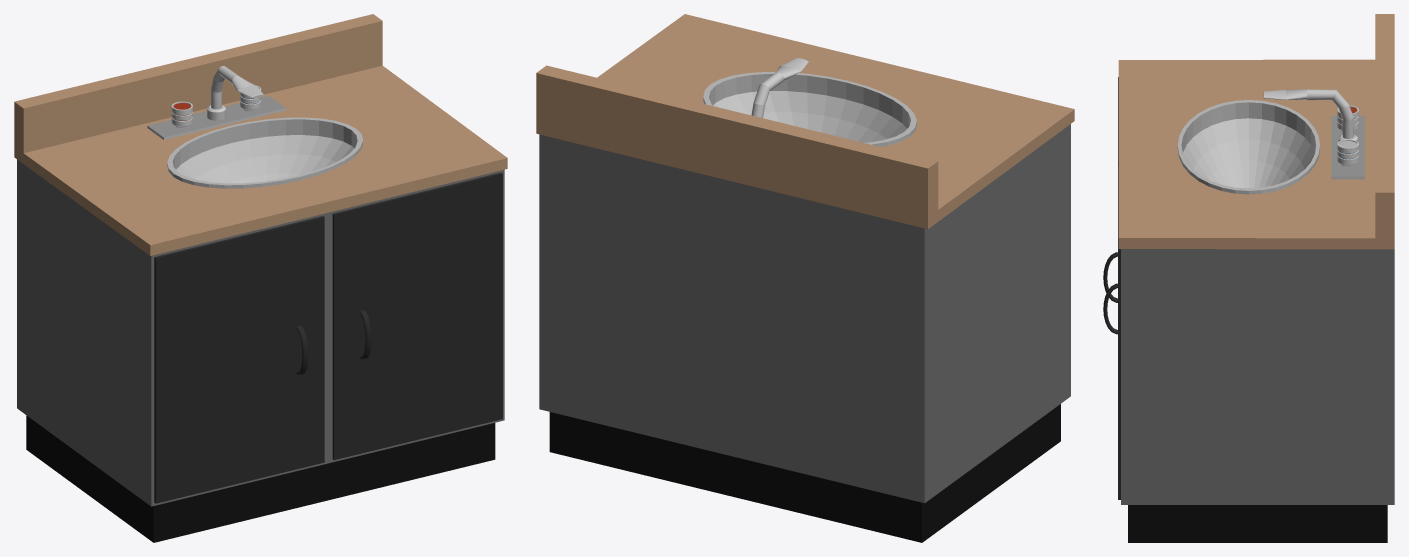
Rendered from Single Sink #2.fbx.
3 renders of one model, left to right at view 1: azimuth 30°, elevation 25°; view 2: azimuth 150°, elevation 25°; view 3: azimuth 270°, elevation 25°, orthographic. The views are drawn at different scales.
Visible parts, largest first — view 1: Single Sink #2; view 2: Single Sink #2; view 3: Single Sink #2.
Boxes of the visible parts, <box> form: Single Sink #2: <box>14,14,507,542</box>; Single Sink #2: <box>536,14,1074,542</box>; Single Sink #2: <box>1103,14,1394,542</box>.
Bounding box in the file's own units: 118 × 113 × 81.17.
Materials: 1 (1 with a texture image).
